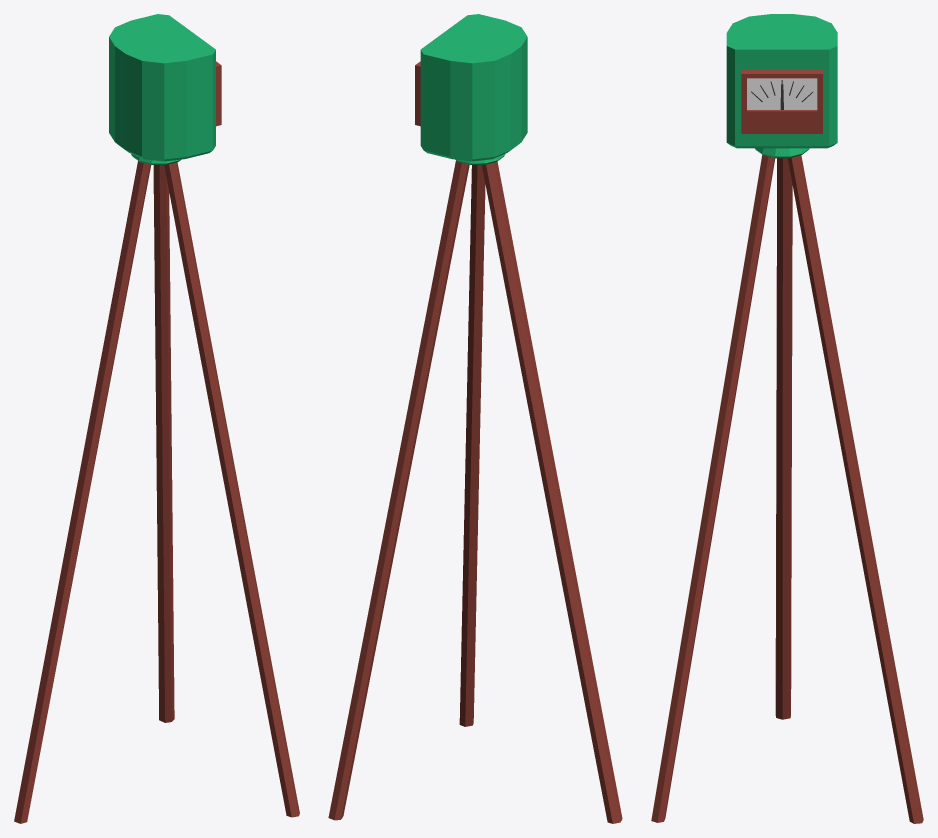
File: repeater.glb
3 renders of one model, left to right at view 1: azimuth 30°, elevation 25°; view 2: azimuth 150°, elevation 25°; view 3: azimuth 270°, elevation 25°, orthographic.
Parts seen in each view (by area): view 1: RepeaterBody; view 2: RepeaterBody; view 3: RepeaterBody.
Part boxes in pixels (x1,y1,x2,y2): RepeaterBody: (14,14,299,823); RepeaterBody: (328,14,622,823); RepeaterBody: (651,14,923,823).
Size of the model in its own units: 0.4389 by 1.39 by 0.4572.
1 material, 1 textured.
